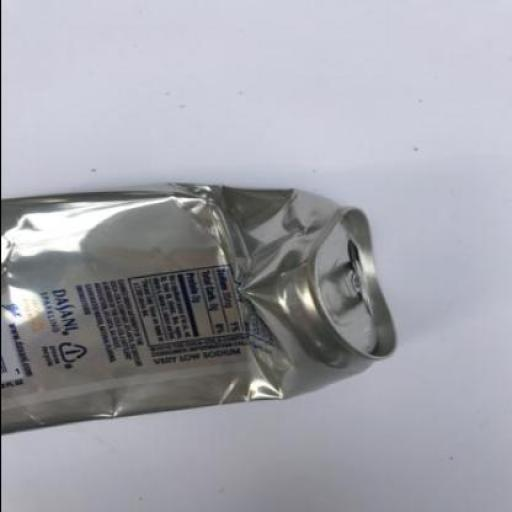metal: (1, 181, 398, 434)
